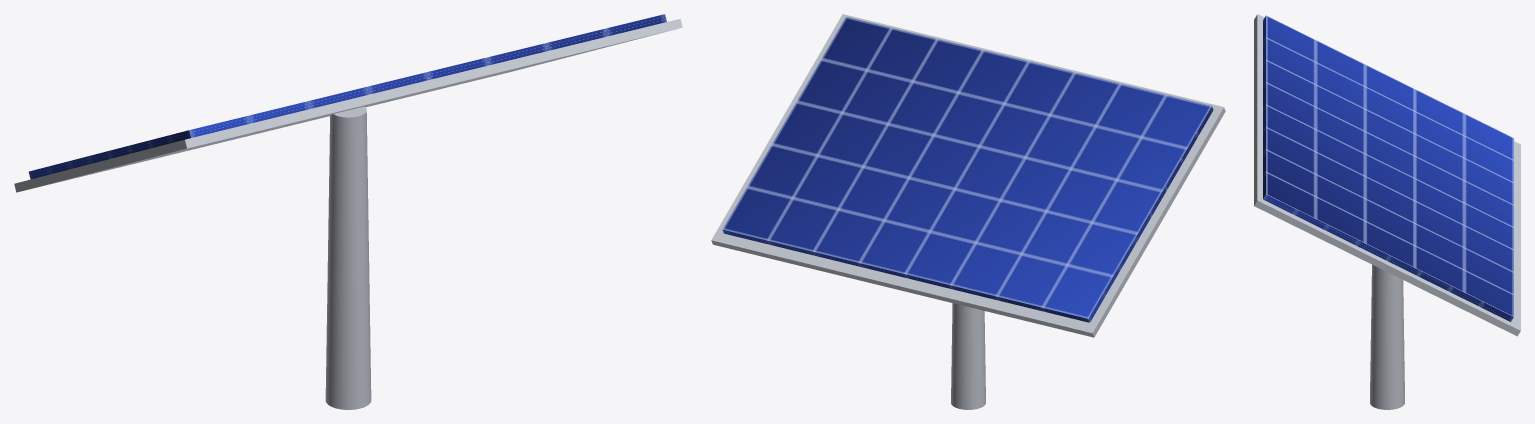
The model's file is panel.glb.
The picture shows the model from 3 angles, left to right: view 1: azimuth 30°, elevation 25°; view 2: azimuth 150°, elevation 25°; view 3: azimuth 270°, elevation 25°; orthographic projection. The views are drawn at different scales.
Parts seen in each view (by area): view 1: panel; view 2: panel; view 3: panel.
Boxes of the visible parts, x1=… form: panel: x1=14, y1=14, x2=682, y2=409; panel: x1=711, y1=14, x2=1225, y2=409; panel: x1=1254, y1=14, x2=1520, y2=409.
Size of the model in its own units: 2.5 by 1.86 by 1.51.
Materials: 2 (1 with a texture image).
